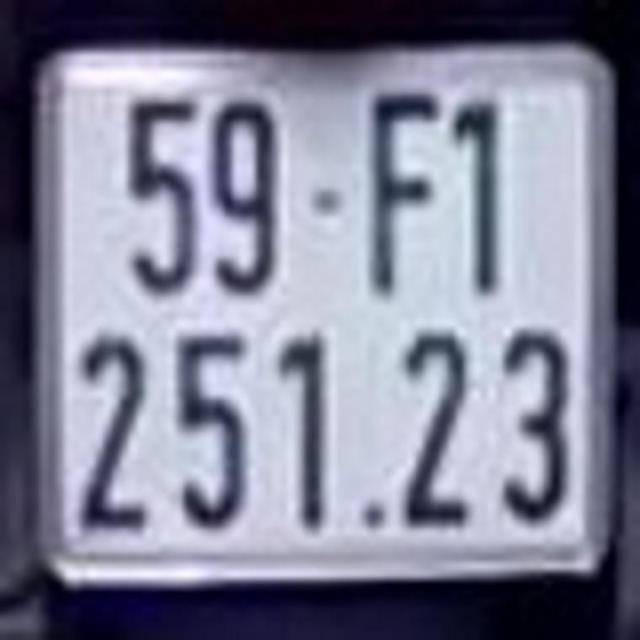1: (276, 322, 339, 533), (451, 82, 512, 296)
2: (74, 324, 153, 534), (402, 308, 474, 536)
3: (500, 318, 571, 532)
5: (127, 86, 200, 300), (174, 316, 244, 530)
9: (206, 86, 283, 300)
F: (366, 84, 441, 295)
